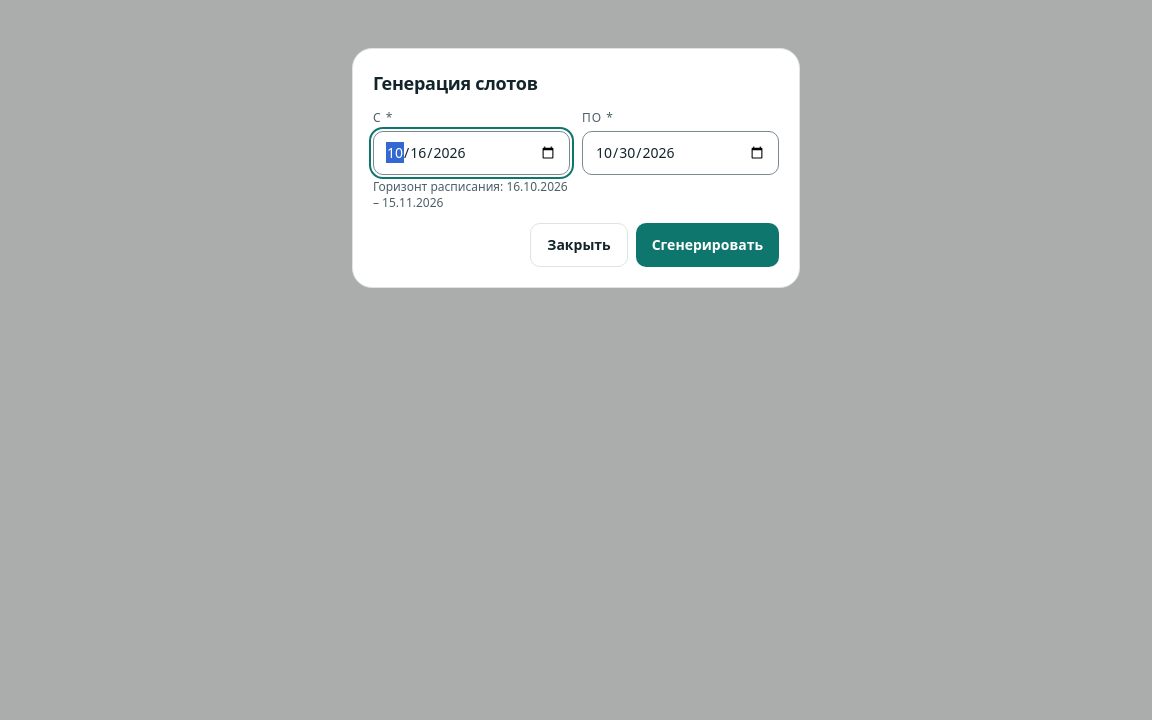
Test: SlotGenerationDialog › should refuse a period and send nothing when it is outside the horizon
Type "2026-12-01" into the date field labelled "По *". click: (680, 153)
box: left=582, top=131, right=779, bottom=175
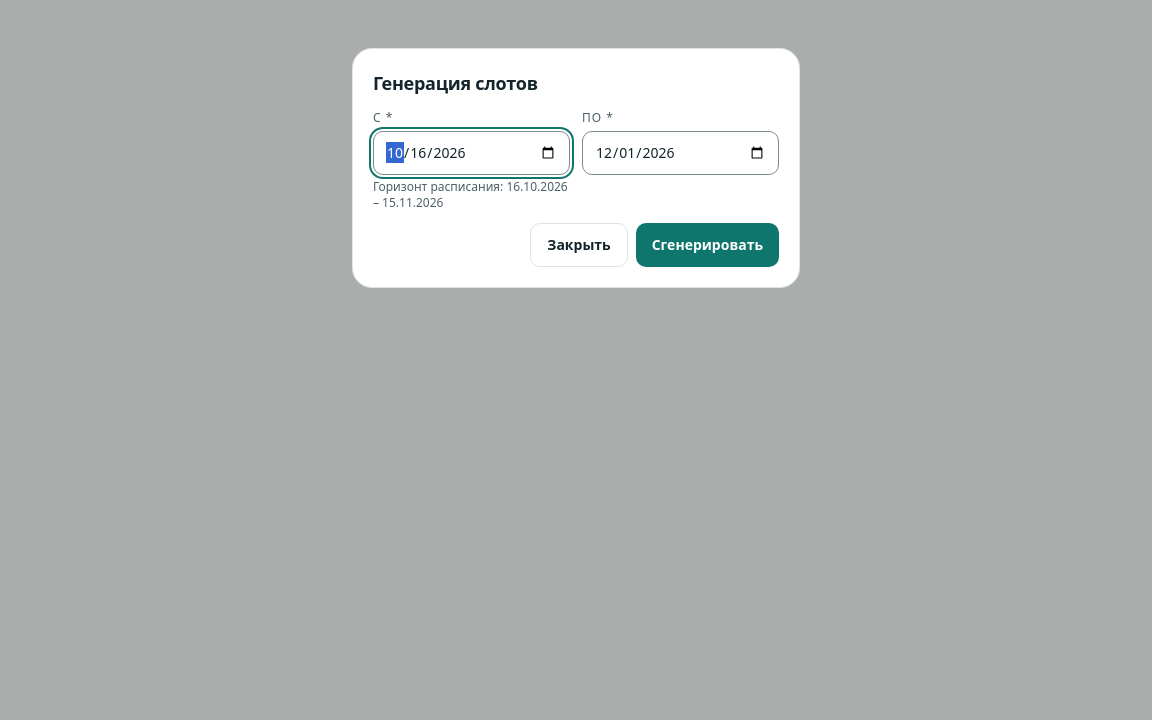
Click the button "Сгенерировать". click: (707, 245)
box: left=636, top=223, right=779, bottom=267
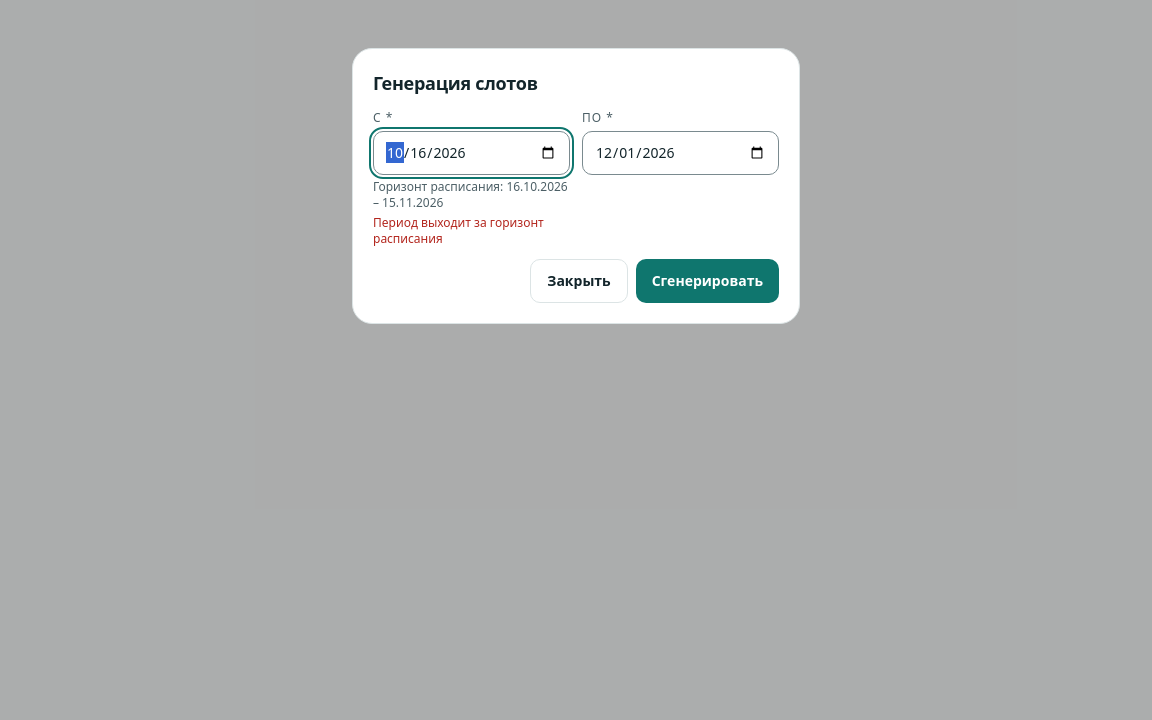
Expected: the text "Период выходит за горизонт расписания" is shown, left=373, top=215, right=570, bottom=247
